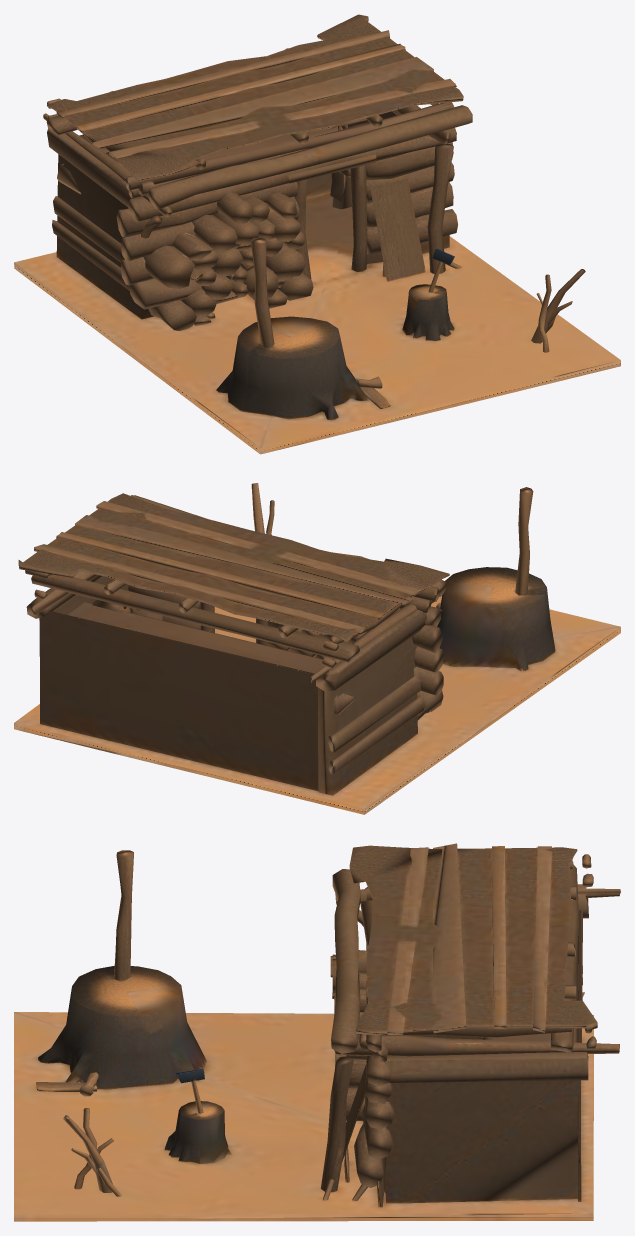
Rendered from lumber.glb.
3 renders of one model, top to bottom at view 1: azimuth 30°, elevation 25°; view 2: azimuth 150°, elevation 25°; view 3: azimuth 270°, elevation 25°, orthographic. The views are drawn at different scales.
Bounding box in the file's own units: 0.7539 × 0.3428 × 0.9546.
Materials: 1 (1 with a texture image).
